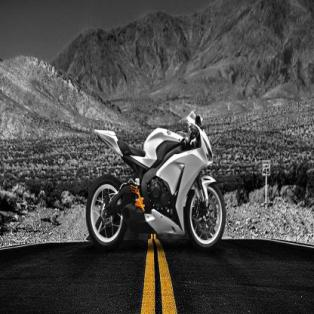Motocicleta: (84, 104, 226, 260)
